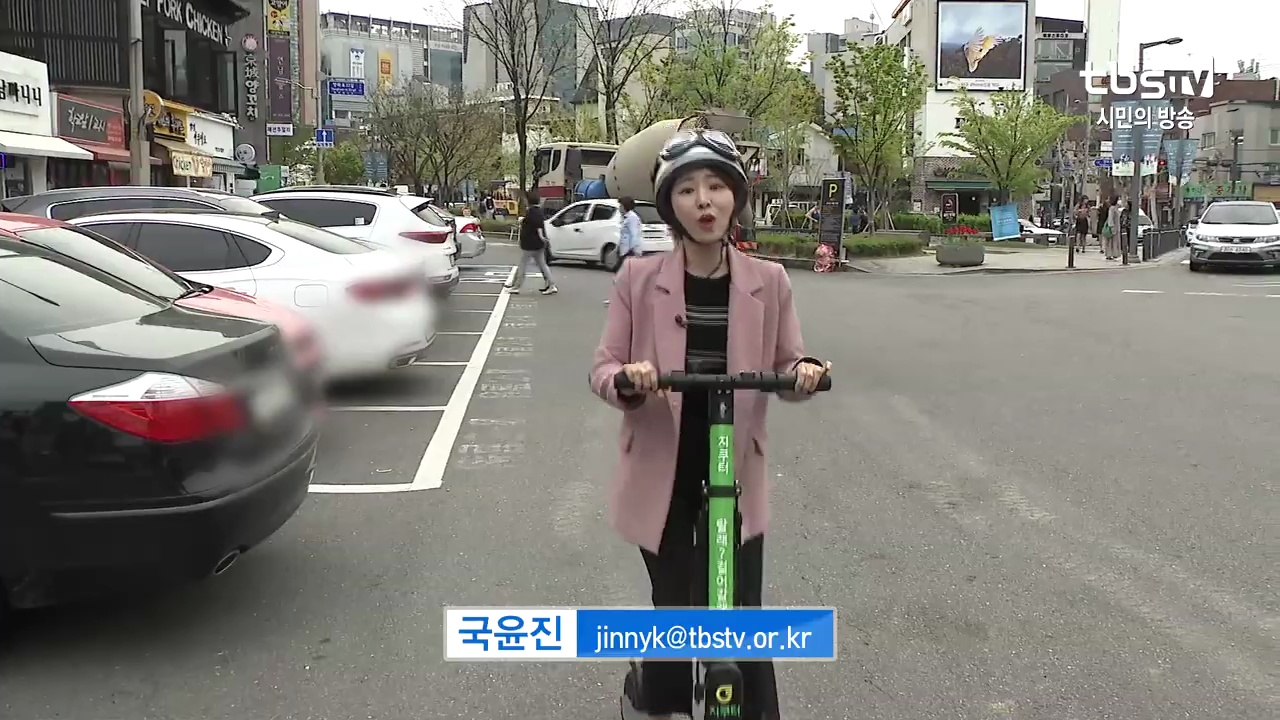helmet: (587, 124, 834, 720)
